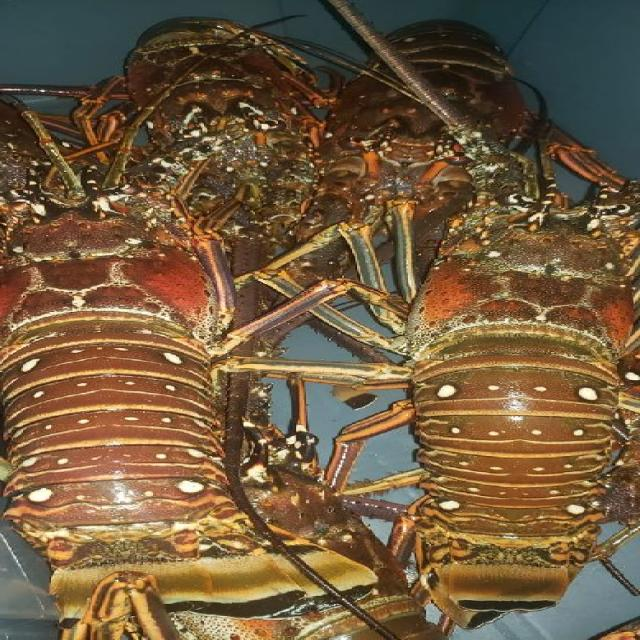Lobster: (218, 0, 637, 628), (2, 159, 445, 639)
